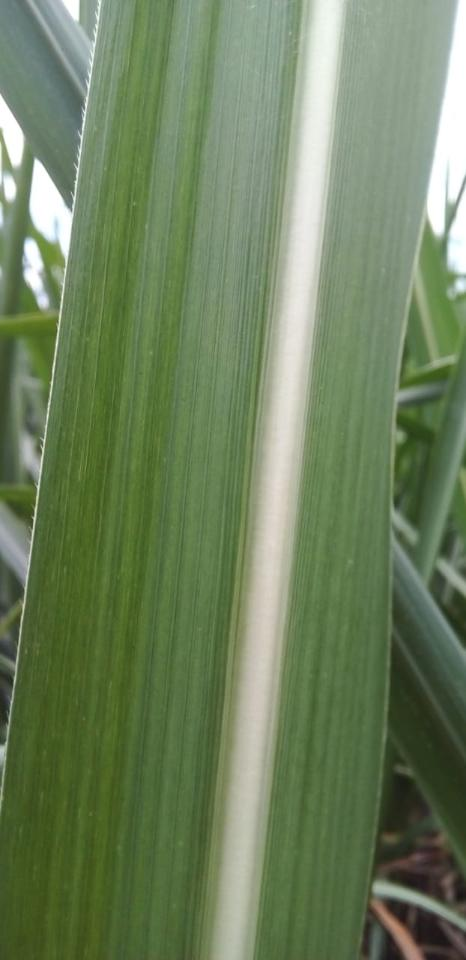Healthy: (0, 0, 457, 959)
